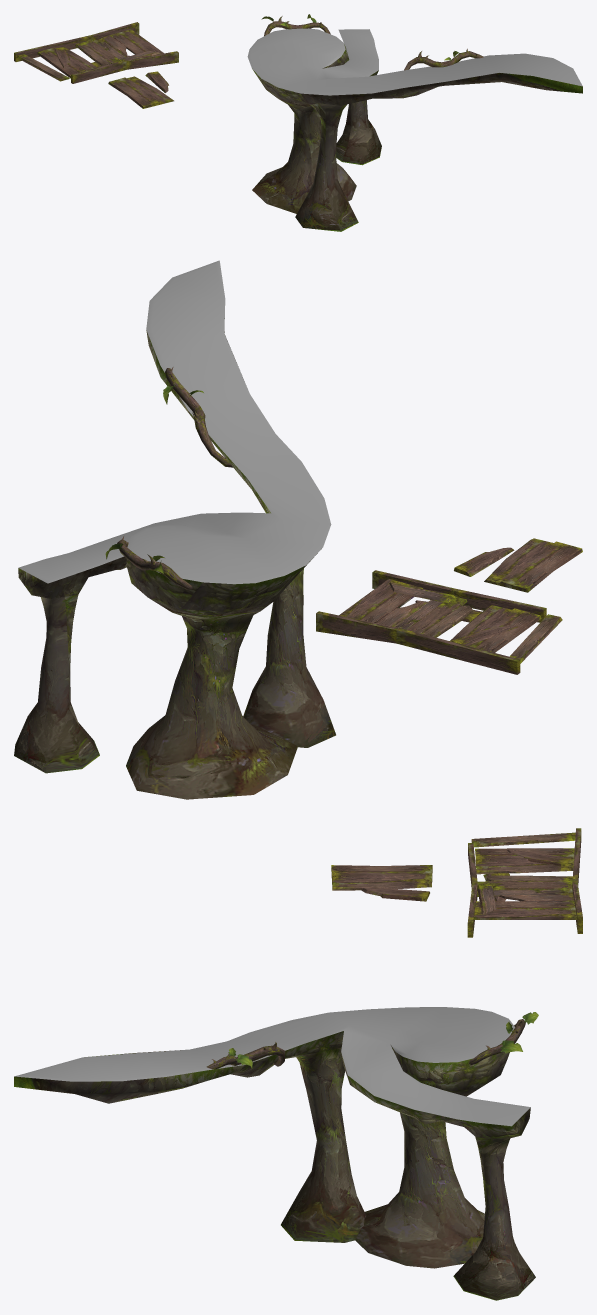
The model's file is f_1004_modules.FBX.
3 renders of one model, top to bottom at view 1: azimuth 30°, elevation 25°; view 2: azimuth 150°, elevation 25°; view 3: azimuth 270°, elevation 25°, orthographic. The views are drawn at different scales.
Parts seen in each view (by area): view 1: f_1004_terrain_stone02, f_1004_terrain03, f_1004_woodbrigde_a, f_1004_woodbrigde_b, f_1004_tree_a, f_1004_tree_b; view 2: f_1004_terrain_stone02, f_1004_terrain03, f_1004_woodbrigde_a, f_1004_woodbrigde_b, f_1004_tree_a, f_1004_tree_b; view 3: f_1004_terrain_stone02, f_1004_terrain03, f_1004_woodbrigde_a, f_1004_woodbrigde_b, f_1004_tree_a, f_1004_tree_b.
Boxes of the visible parts, x1,y1,x2,y2 form: f_1004_terrain_stone02: [252, 44, 582, 231]; f_1004_terrain03: [247, 28, 582, 95]; f_1004_woodbrigde_a: [14, 22, 178, 83]; f_1004_woodbrigde_b: [108, 71, 173, 108]; f_1004_tree_a: [404, 48, 483, 70]; f_1004_tree_b: [261, 14, 330, 35]; f_1004_terrain_stone02: [14, 318, 335, 799]; f_1004_terrain03: [18, 260, 331, 584]; f_1004_woodbrigde_a: [316, 570, 562, 674]; f_1004_woodbrigde_b: [454, 538, 582, 592]; f_1004_tree_a: [163, 367, 232, 467]; f_1004_tree_b: [105, 536, 192, 589]; f_1004_terrain_stone02: [14, 1031, 535, 1300]; f_1004_terrain03: [14, 1007, 530, 1126]; f_1004_woodbrigde_a: [467, 828, 582, 937]; f_1004_woodbrigde_b: [331, 865, 432, 901]; f_1004_tree_a: [206, 1042, 285, 1069]; f_1004_tree_b: [469, 1012, 538, 1064].
Size of the model in its own units: 256 by 112 by 222.
